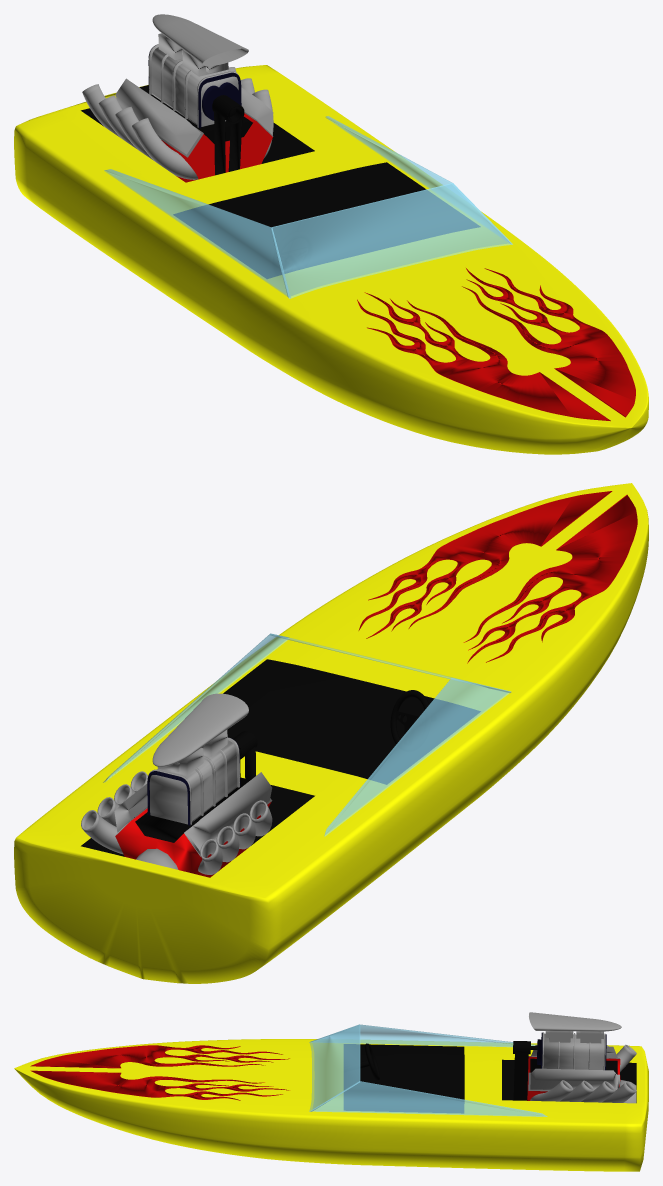
File: cruise_ship.obj
3 views of the same model, one above another, from view 1: azimuth 30°, elevation 25°; view 2: azimuth 150°, elevation 25°; view 3: azimuth 270°, elevation 25° (orthographic). The views are drawn at different scales.
Visible parts, largest first — view 1: HULL1, WINDSHIELD, ENGINE, BLOWER, CARB_SCOOP, STEERINGWL, belt, PULLEY; view 2: HULL1, ENGINE, WINDSHIELD, BLOWER, CARB_SCOOP, STEERINGWL; view 3: HULL1, WINDSHIELD, ENGINE, BLOWER, CARB_SCOOP, belt02, STEERINGWL.
Boxes of the visible parts, x1,y1,x2,y2 form: HULL1: (14,65,648,454); WINDSHIELD: (104,116,512,298); ENGINE: (82,67,273,182); BLOWER: (148,44,241,128); CARB_SCOOP: (152,14,248,76); STEERINGWL: (272,231,312,275); belt: (214,111,225,175); PULLEY: (212,95,244,123); HULL1: (14,483,648,983); ENGINE: (81,771,272,877); WINDSHIELD: (103,633,511,836); BLOWER: (147,737,240,825); CARB_SCOOP: (152,693,248,775); STEERINGWL: (390,690,436,751); HULL1: (14,1039,648,1171); WINDSHIELD: (309,1024,547,1116); ENGINE: (527,1044,636,1103); BLOWER: (537,1032,606,1070); CARB_SCOOP: (529,1012,621,1043); belt02: (513,1052,528,1100); STEERINGWL: (344,1043,379,1080).
Bounding box in the file's own units: 521 × 427 × 1737.
